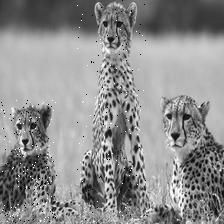Cheetha: (76, 0, 145, 222), (159, 96, 224, 224), (0, 101, 56, 224)
